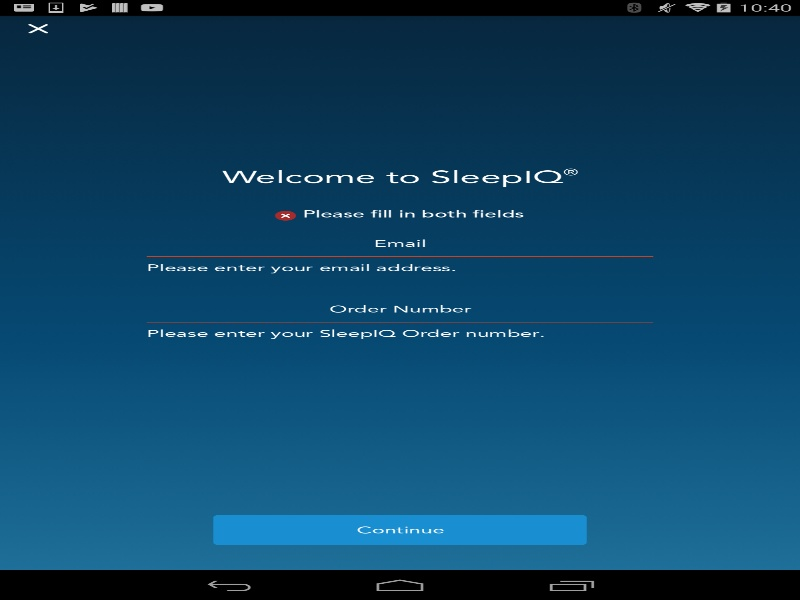Button: (213, 515, 586, 545)
Input: (146, 231, 653, 255), (146, 297, 653, 320)
